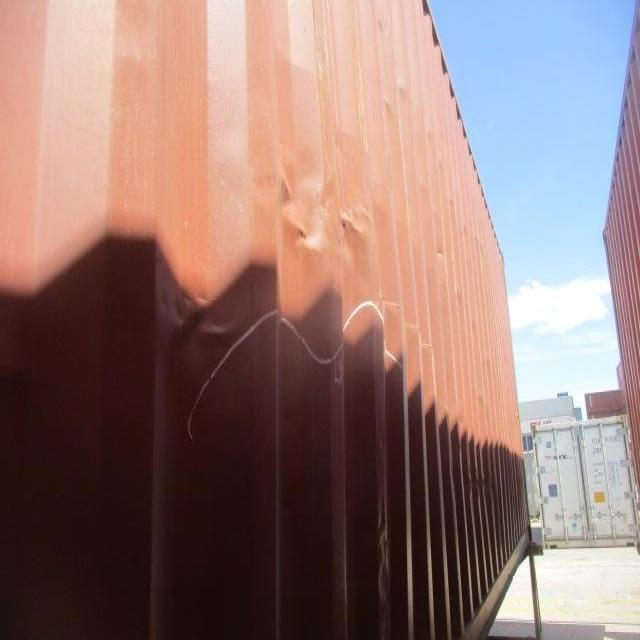dent: (272, 164, 388, 257), (155, 275, 250, 371)
